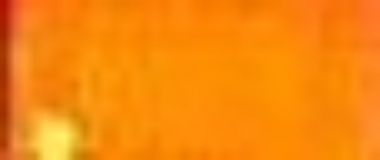Hotspot: (26, 109, 83, 160)
